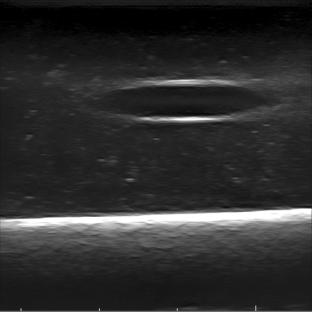vessel: (97, 78, 271, 125)
